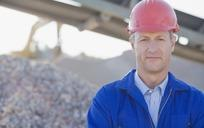helmet: (126, 1, 181, 32)
